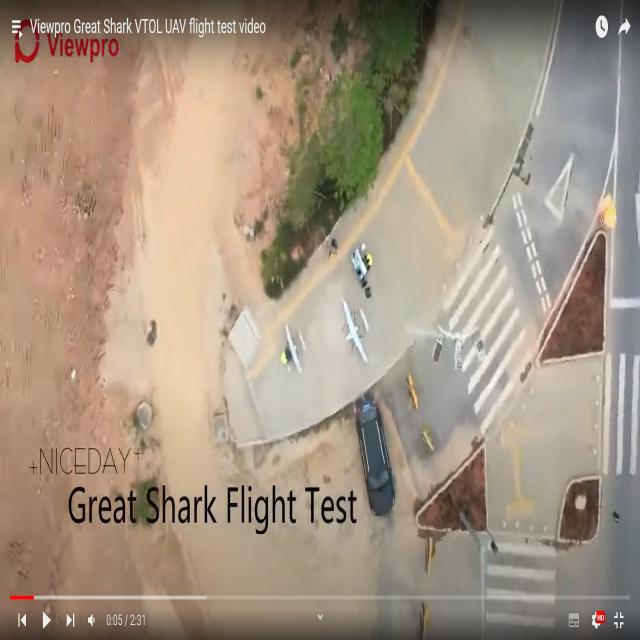iha: (340, 323, 370, 327)
